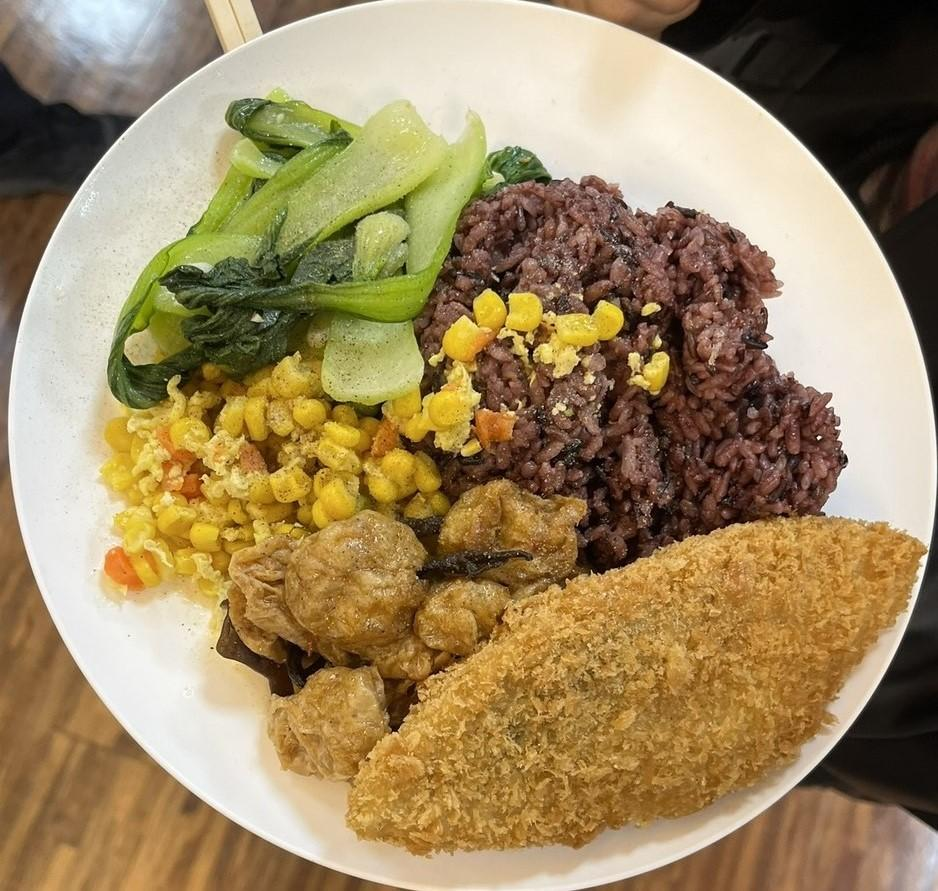big fried chicken leg: (8, 0, 938, 891)
braised fish: (412, 175, 852, 570)
braised fish fillet: (113, 86, 549, 410), (221, 478, 586, 781), (88, 362, 452, 595)
braised pork: (343, 514, 926, 853)
